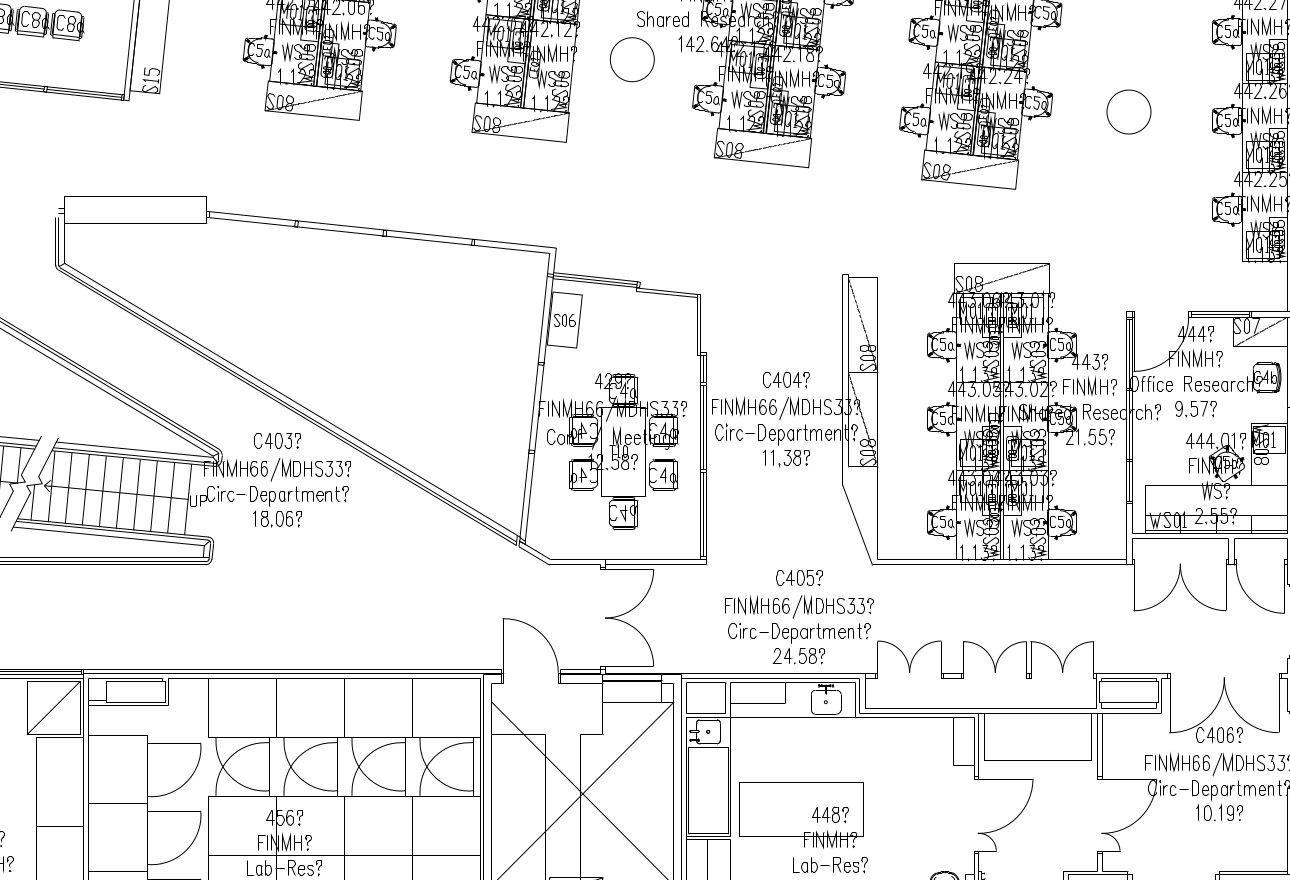door: (1131, 562, 1233, 625), (145, 739, 207, 801), (144, 807, 206, 869), (499, 608, 561, 670), (1094, 773, 1159, 832), (969, 775, 1034, 834), (1166, 670, 1222, 738), (1133, 304, 1189, 372), (1223, 670, 1282, 734), (1232, 557, 1286, 622), (598, 615, 661, 670), (598, 565, 661, 620), (908, 629, 947, 678), (871, 632, 910, 681), (955, 633, 994, 682), (994, 634, 1028, 684), (1028, 632, 1062, 682), (1062, 632, 1096, 682), (964, 831, 1002, 852), (1093, 833, 1131, 854)
